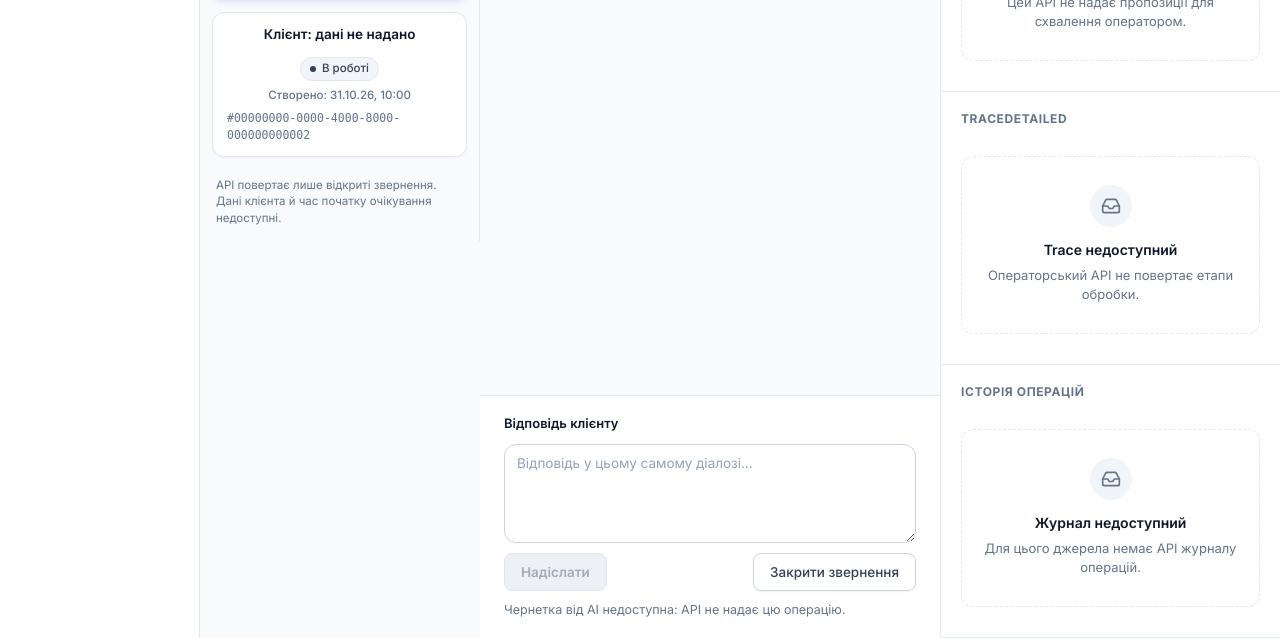
Test: drafts survive switching conversations and navigating to another page
(page scrolled)
Type "Перша чернетка" into the text box labelled "Відповідь клієнту".
click(710, 493); type("Перша чернетка")  # box [504,444,916,542]
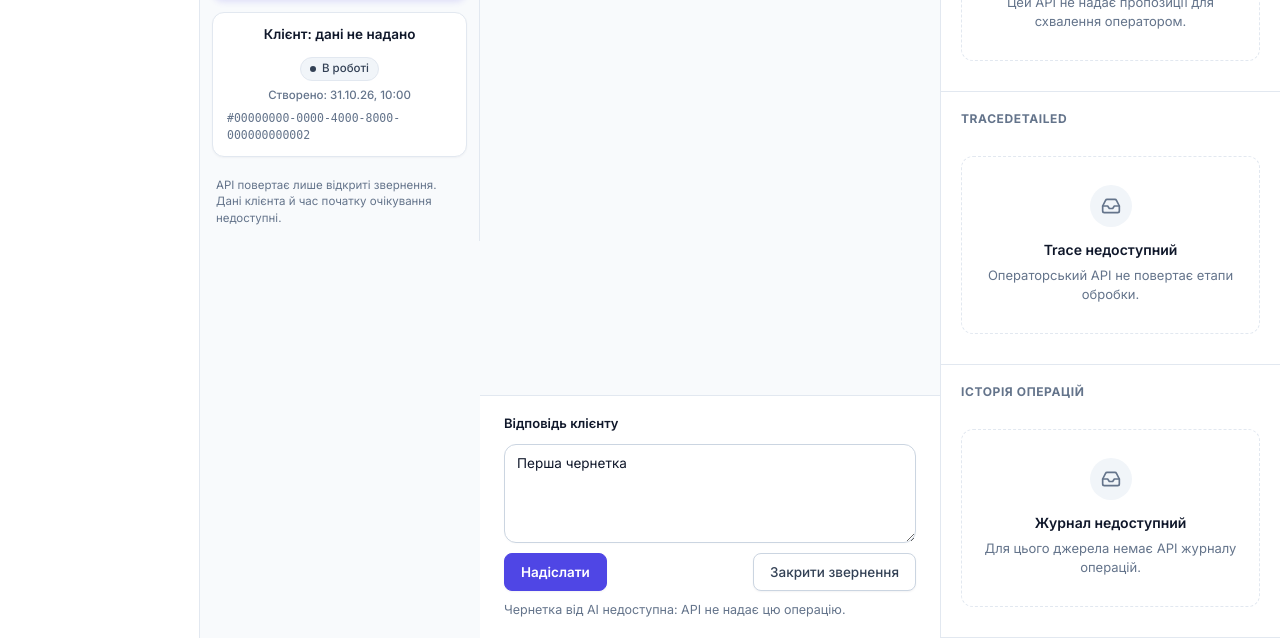
Click the button named "Інший діалог".
click(340, 84)  # box [212,12,467,157]
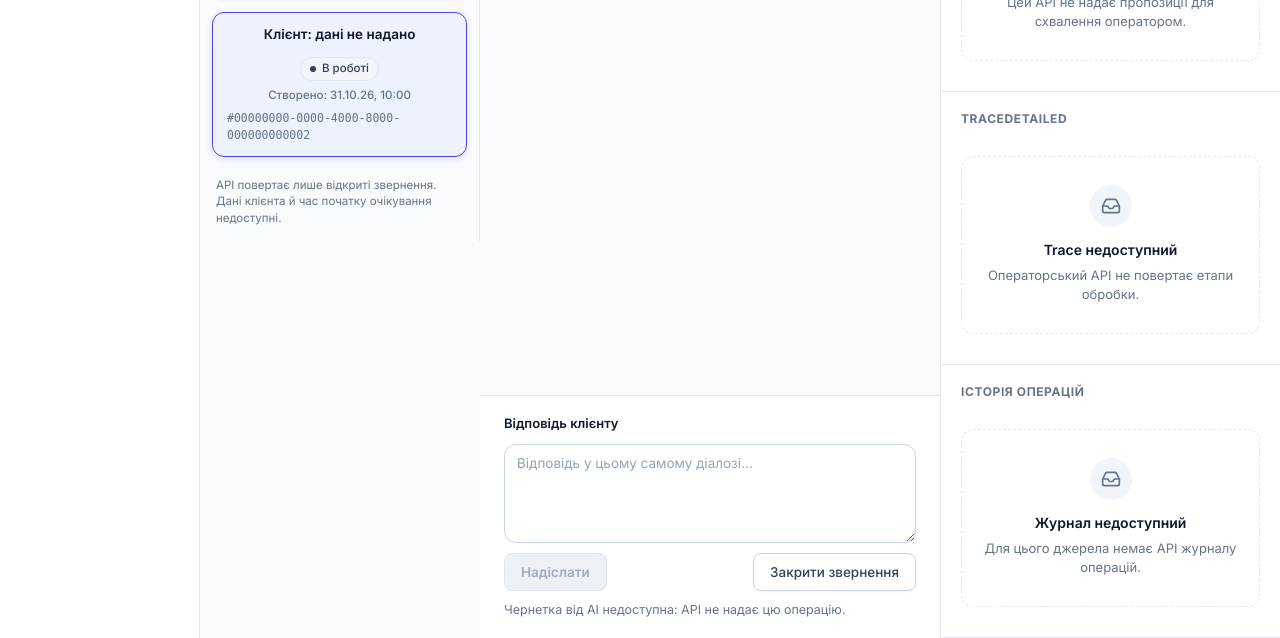
Check: the text box labelled "Відповідь клієнту" is empty
Type "Друга чернетка" into the text box labelled "Відповідь клієнту".
click(710, 493); type("Друга чернетка")  # box [504,444,916,542]
(page scrolled)
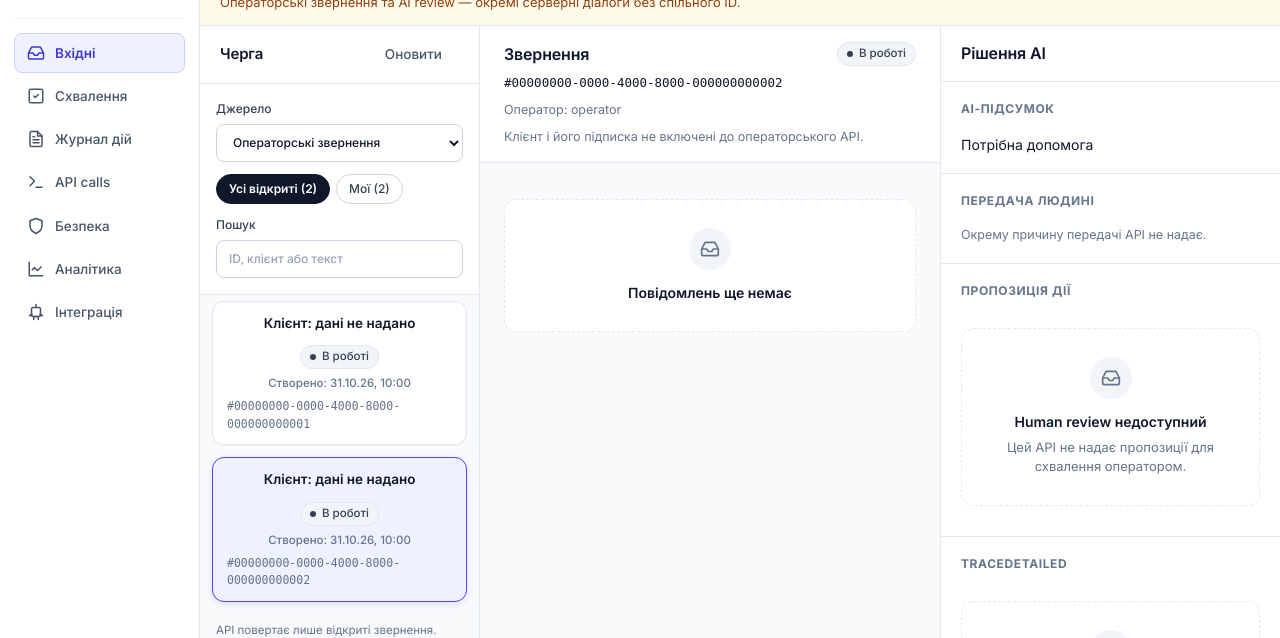
Click the button "Аналітика".
click(100, 269)  # box [14,249,185,289]
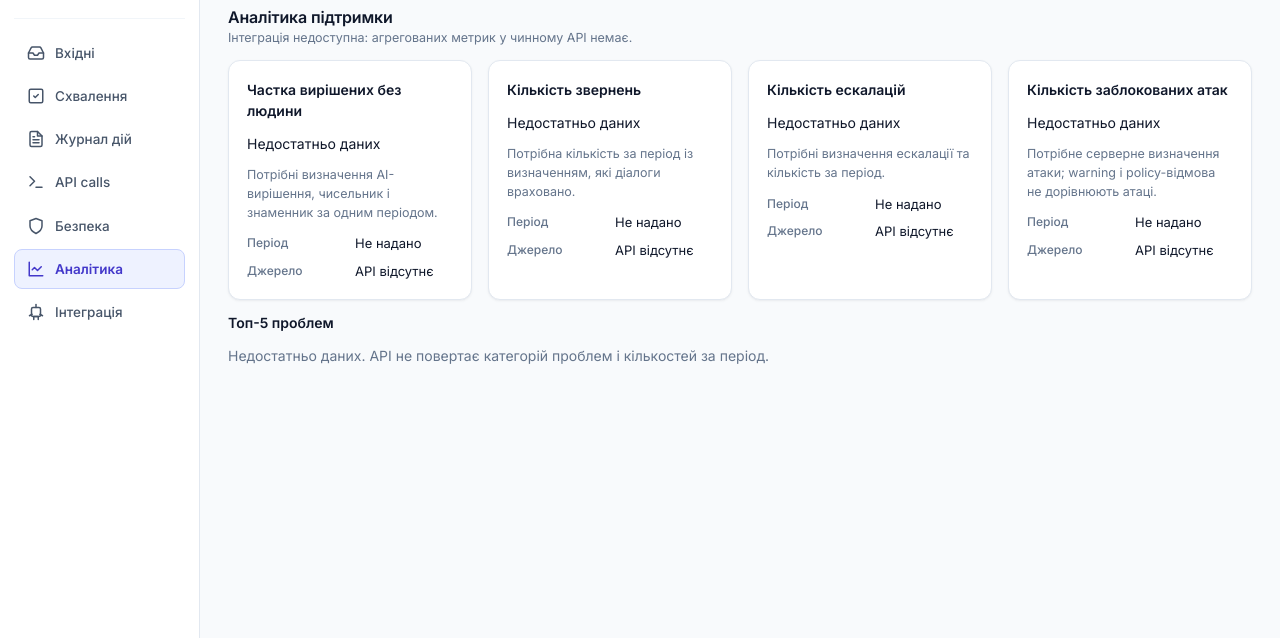
Click the button "Вхідні".
click(100, 53)  # box [14,32,185,73]
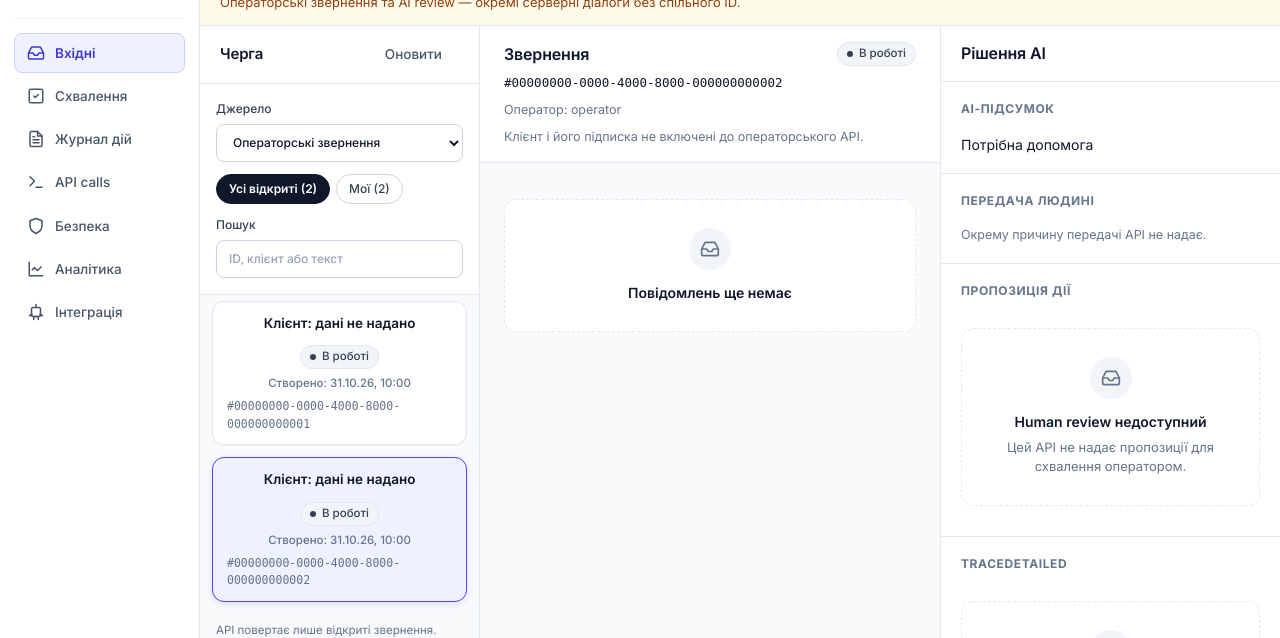
Click the button named "Потрібна допомога".
click(340, 373)  # box [212,300,467,445]
(page scrolled)
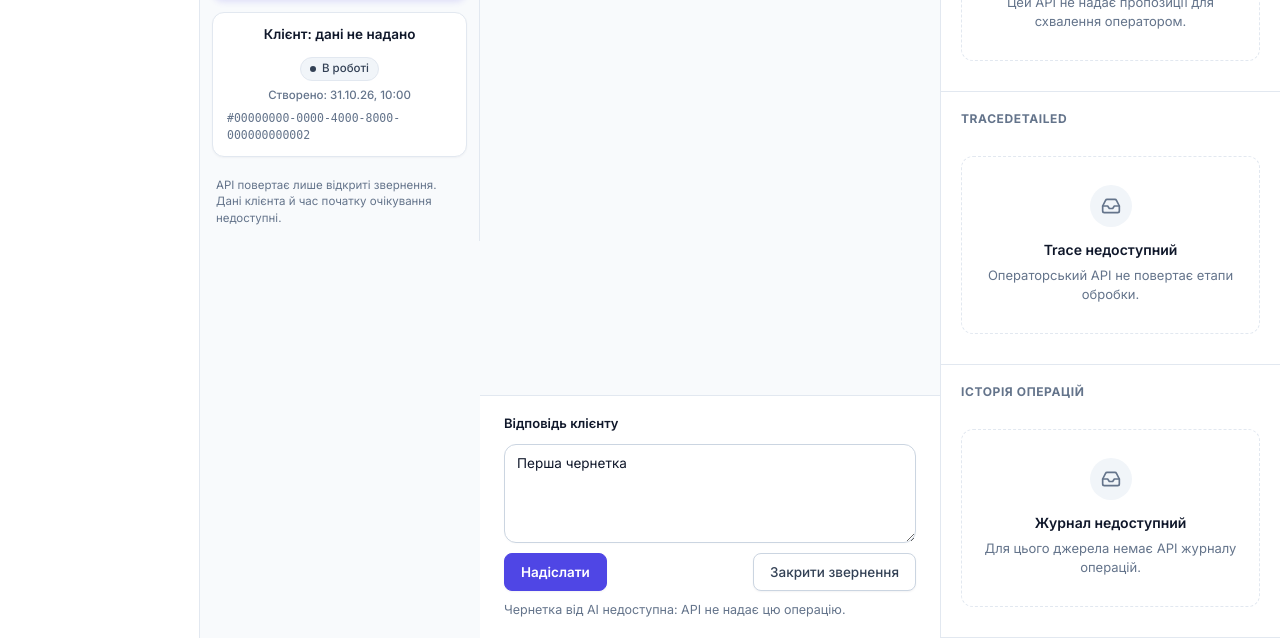
Check: the text box labelled "Відповідь клієнту" holds "Перша чернетка", box [504,444,916,542]
